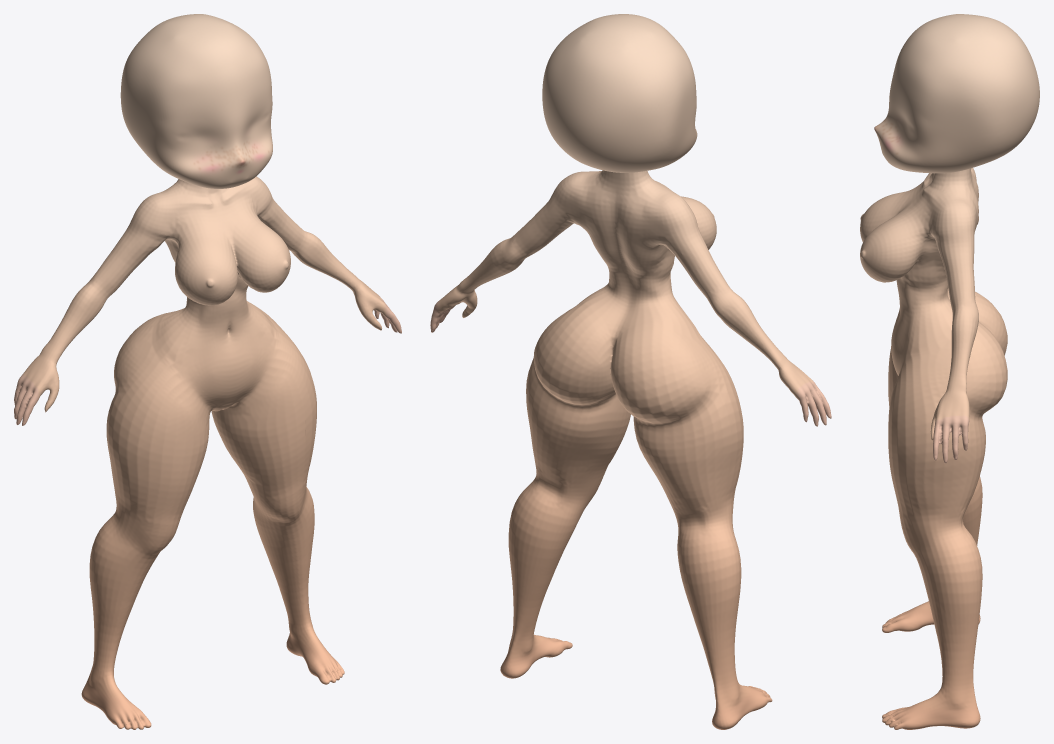
The model's file is Chibi_pretty.glb.
The picture shows the model from 3 angles, left to right: view 1: azimuth 30°, elevation 25°; view 2: azimuth 150°, elevation 25°; view 3: azimuth 270°, elevation 25°; orthographic projection. The views are drawn at different scales.
Parts seen in each view (by area): view 1: Chibi_pretty; view 2: Chibi_pretty; view 3: Chibi_pretty.
Boxes of the visible parts, bbox=[...] form: Chibi_pretty: bbox=[14, 14, 401, 729]; Chibi_pretty: bbox=[430, 14, 831, 729]; Chibi_pretty: bbox=[860, 14, 1039, 729].
Size of the model in its own units: 46.61 by 76.78 by 19.09.
1 material, 1 textured.
